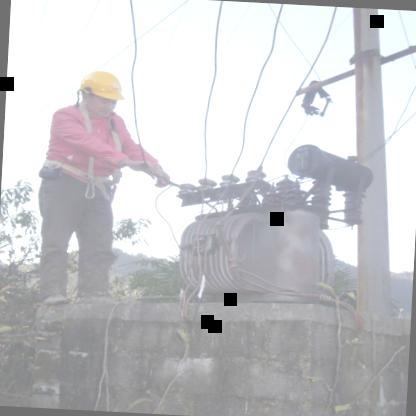helmet: (74, 66, 126, 118)
